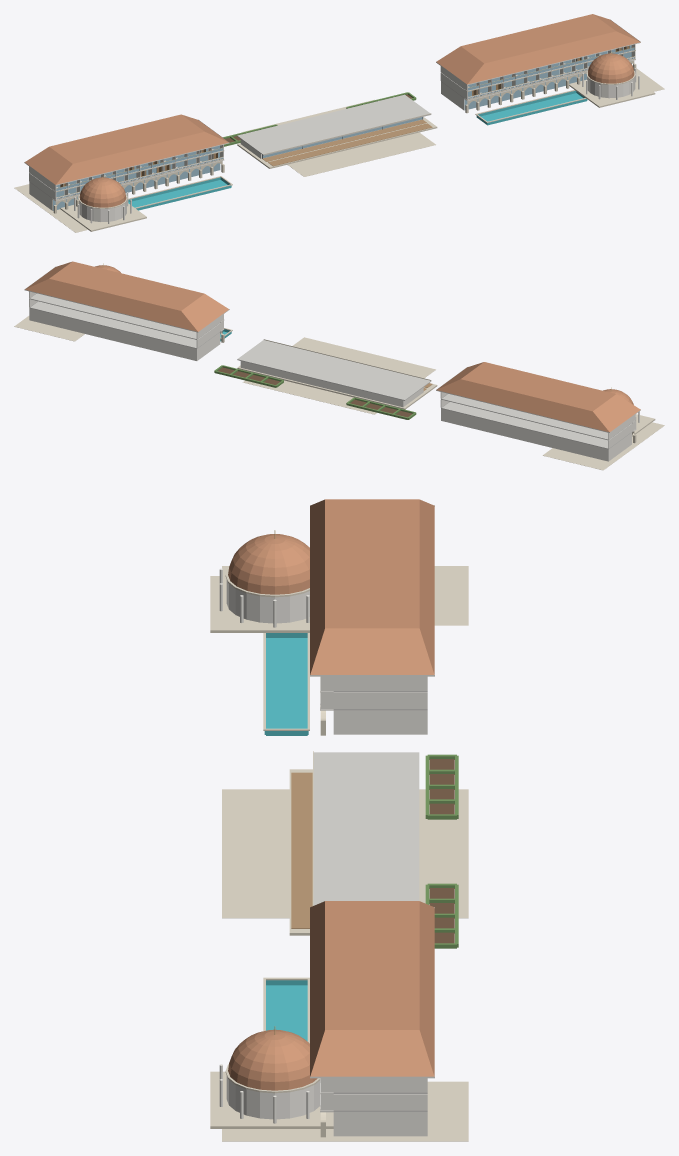
The model's file is E6-6_Arq_T2.fbx.
3 renders of one model, top to bottom at view 1: azimuth 30°, elevation 25°; view 2: azimuth 150°, elevation 25°; view 3: azimuth 270°, elevation 25°, orthographic. The views are drawn at different scales.
Visible parts, largest first — view 1: E6-6_Arq_T2; view 2: E6-6_Arq_T2; view 3: E6-6_Arq_T2.
Part boxes in pixels (bbox=[...]): E6-6_Arq_T2: bbox=[14, 14, 664, 232]; E6-6_Arq_T2: bbox=[14, 261, 664, 470]; E6-6_Arq_T2: bbox=[210, 499, 468, 1141].
Size of the model in its own units: 232 by 18.15 by 44.
